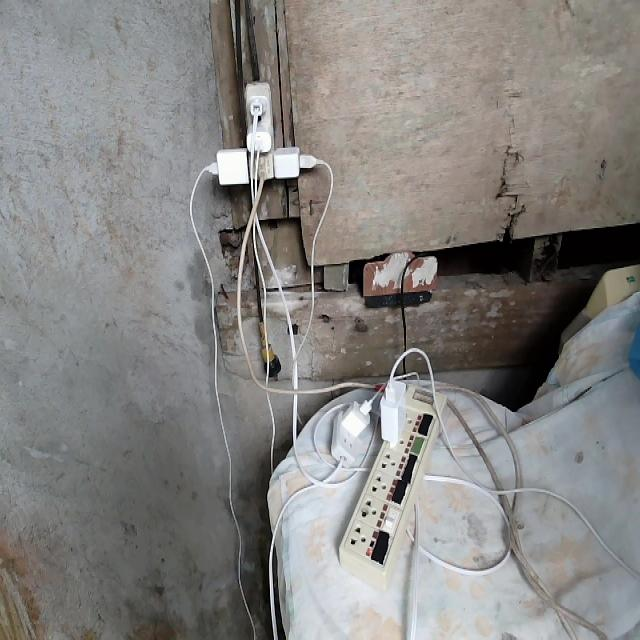-: (209, 78, 311, 186)
